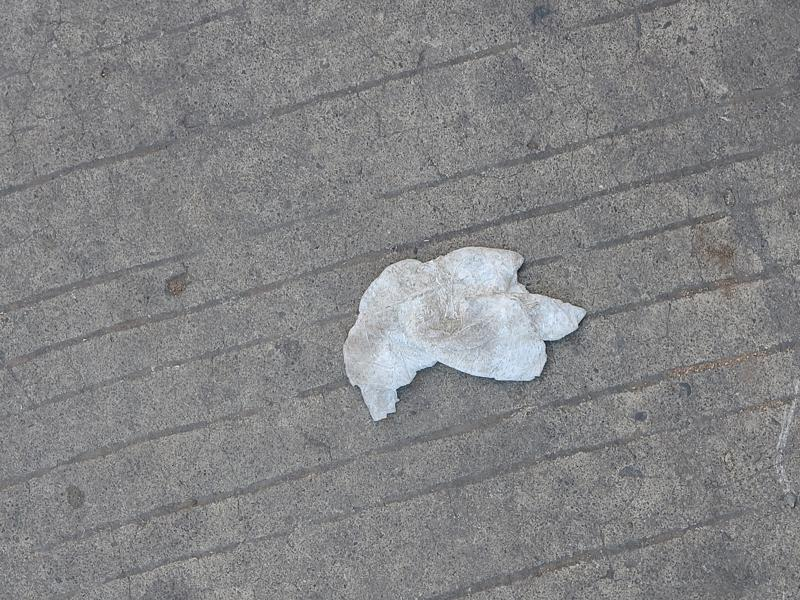papel: (340, 247, 587, 423)
